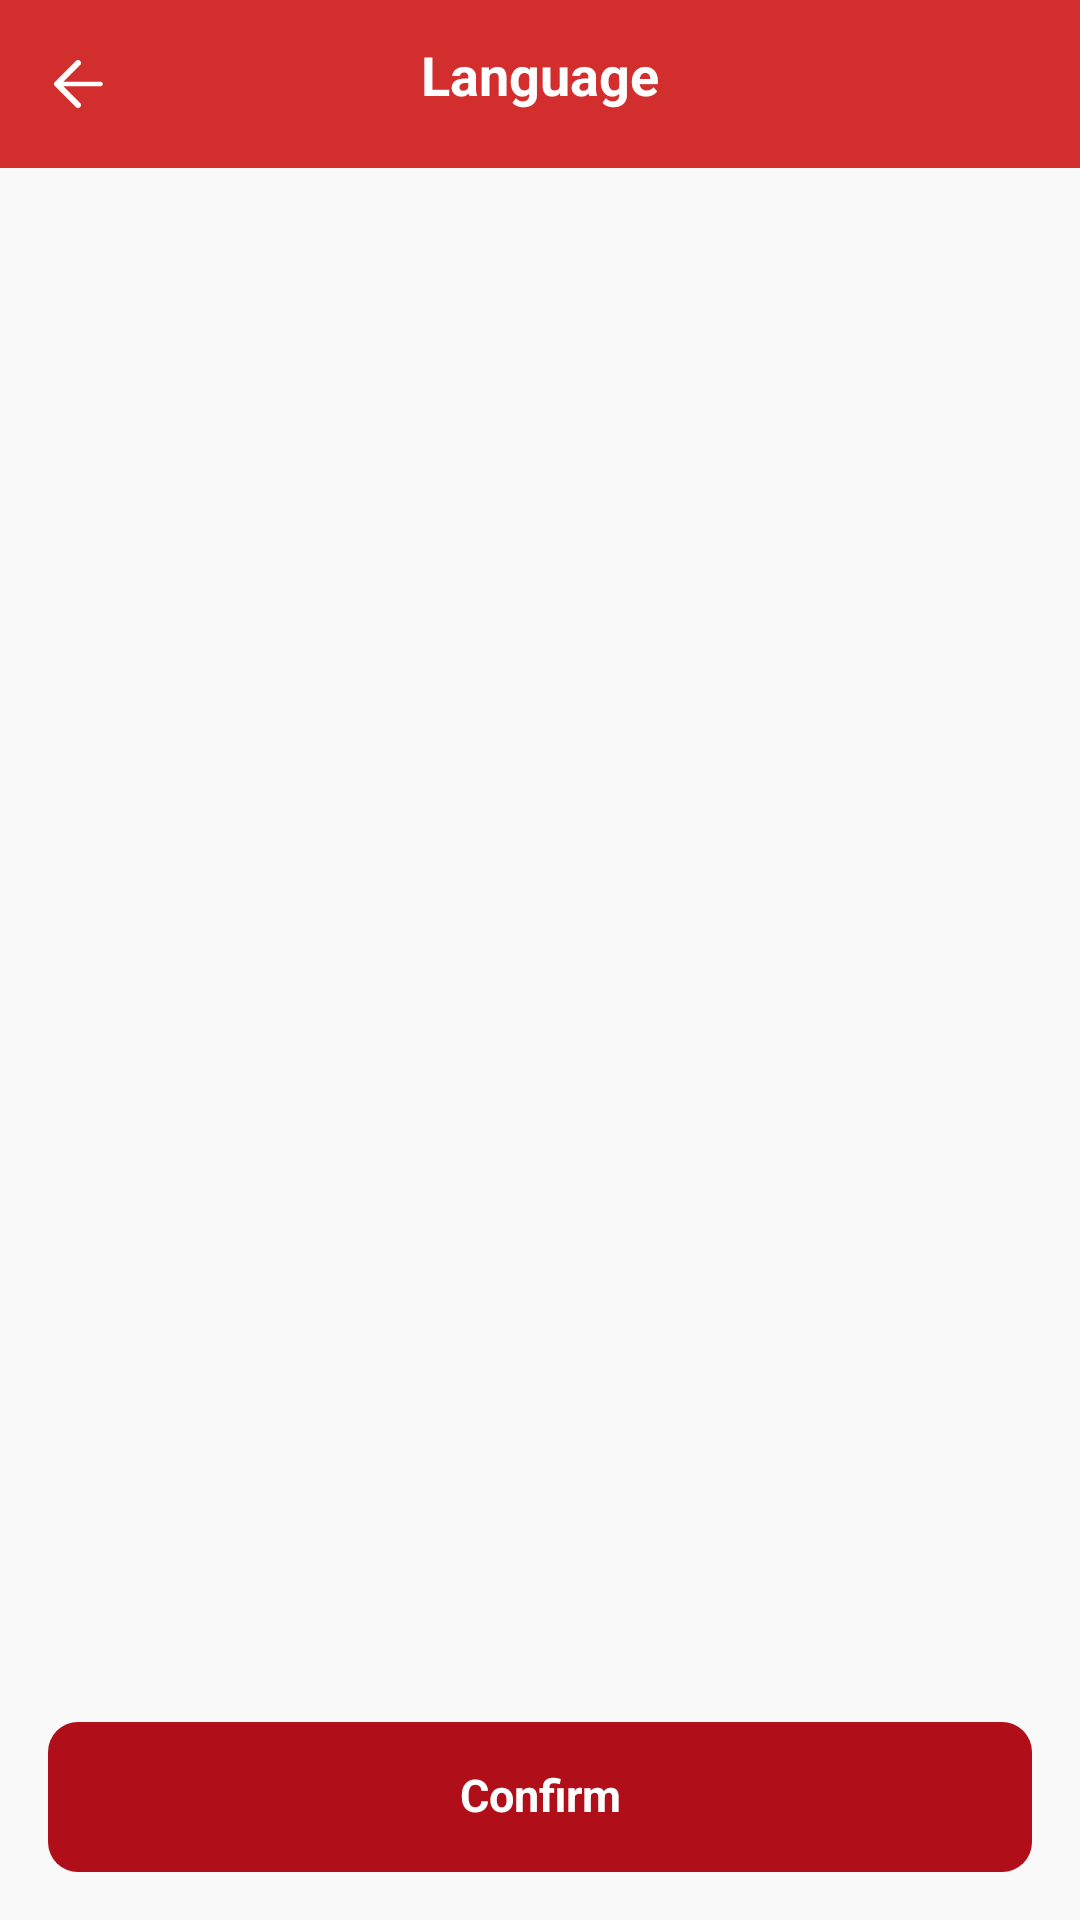

Named icons in this screenshot (1080 x 1920) and their centers, [x,y]:
back: [78,84]
